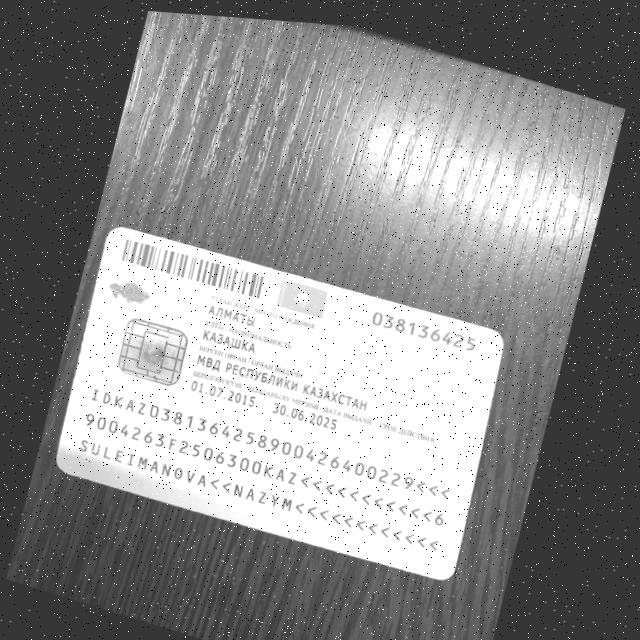card: (57, 228, 502, 578)
